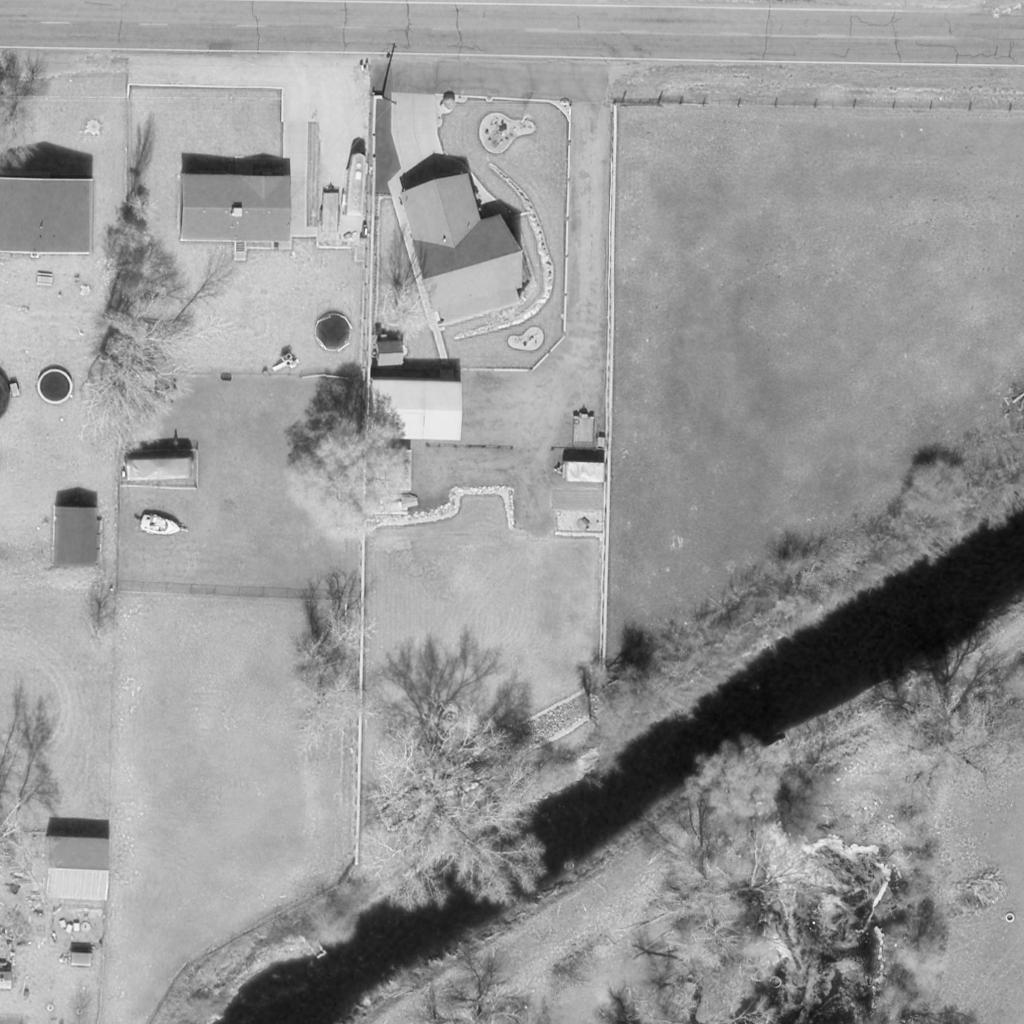vehicle: (345, 153, 369, 215), (126, 460, 192, 482), (138, 512, 188, 540), (564, 460, 608, 486)
